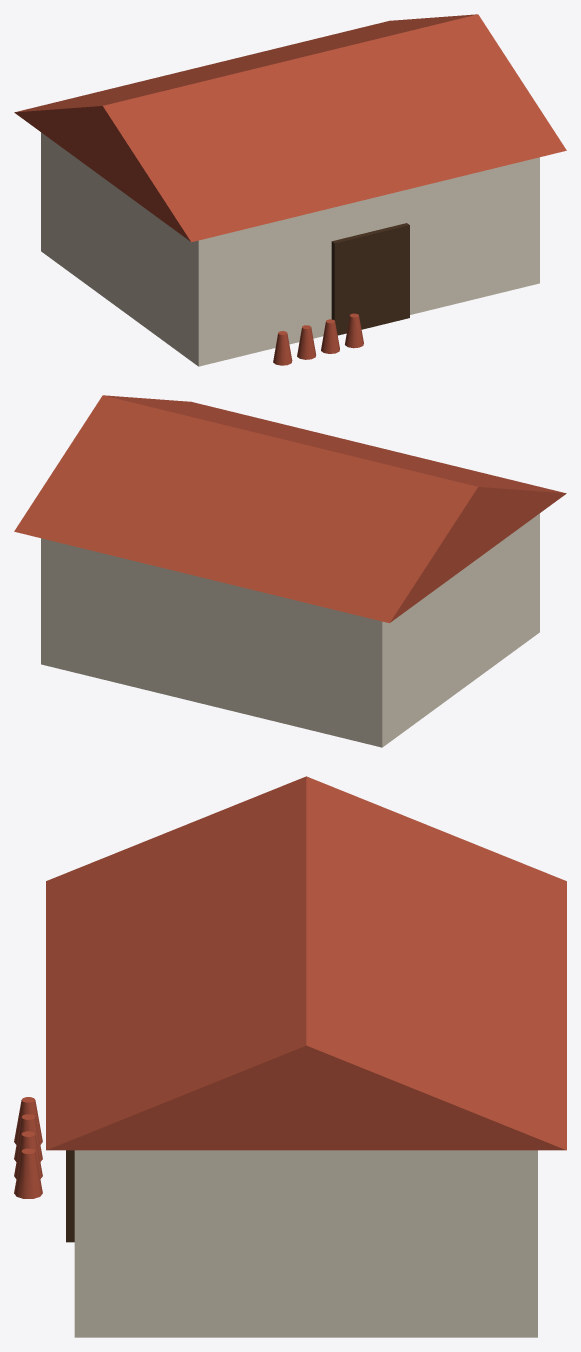
Rendered from granary.glb.
3 renders of one model, top to bottom at view 1: azimuth 30°, elevation 25°; view 2: azimuth 150°, elevation 25°; view 3: azimuth 270°, elevation 25°, orthographic. The views are drawn at different scales.
Parts seen in each view (by area): view 1: Granary; view 2: Granary; view 3: Granary.
Boxes of the visible parts, x1,y1,x2,y2 form: Granary: (14, 14, 566, 366); Granary: (14, 395, 566, 747); Granary: (14, 776, 566, 1337).
Bounding box in the file's own units: 11 × 5.8 × 9.55.
